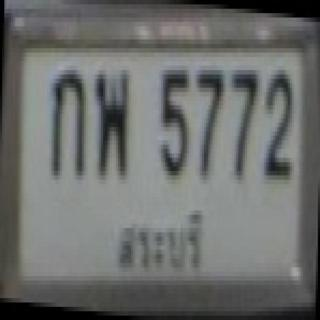A01: (46, 62, 89, 185)
A30: (91, 63, 137, 184)
N02: (260, 63, 300, 182)
N05: (147, 61, 192, 180)
N07: (226, 60, 262, 180), (192, 62, 228, 181)
P60: (108, 201, 212, 279)
